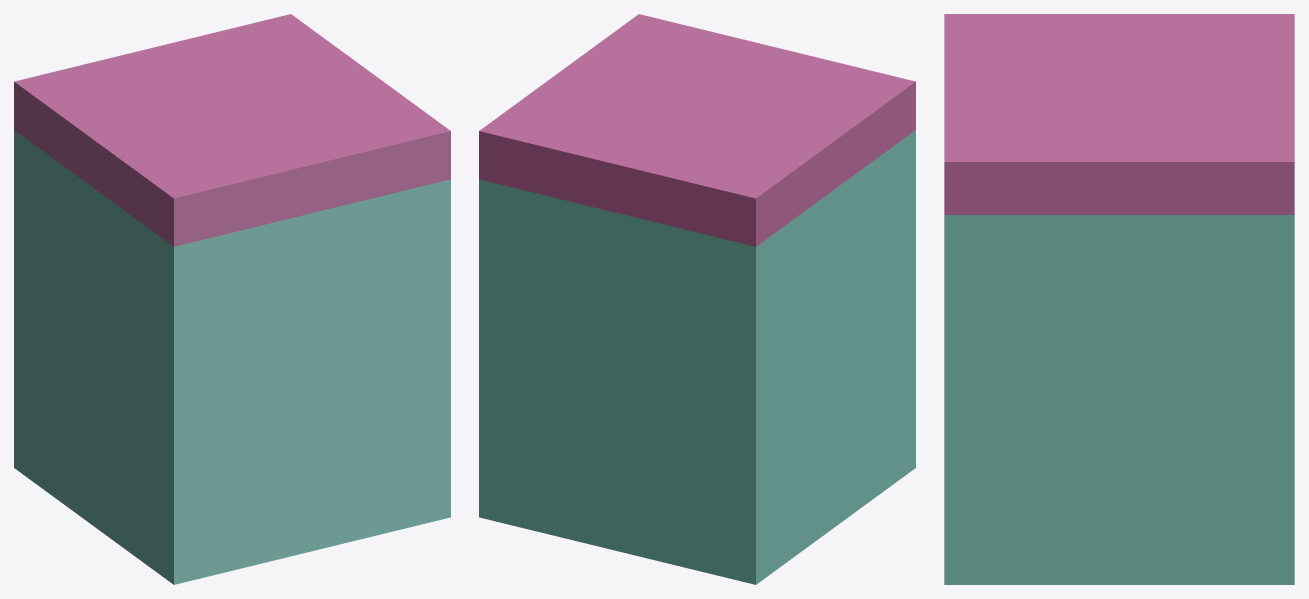
Rendered from squidgame_props_platform2_blue.fbx.
The picture shows the model from 3 angles, left to right: view 1: azimuth 30°, elevation 25°; view 2: azimuth 150°, elevation 25°; view 3: azimuth 270°, elevation 25°; orthographic projection. The views are drawn at different scales.
Parts seen in each view (by area): view 1: squidgame_props_platform2_blue; view 2: squidgame_props_platform2_blue; view 3: squidgame_props_platform2_blue.
Boxes of the visible parts, x1,y1,x2,y2 form: squidgame_props_platform2_blue: (14,14,450,584); squidgame_props_platform2_blue: (479,14,915,584); squidgame_props_platform2_blue: (944,14,1294,584).
Bounding box in the file's own units: 1.5 × 2 × 1.5.
